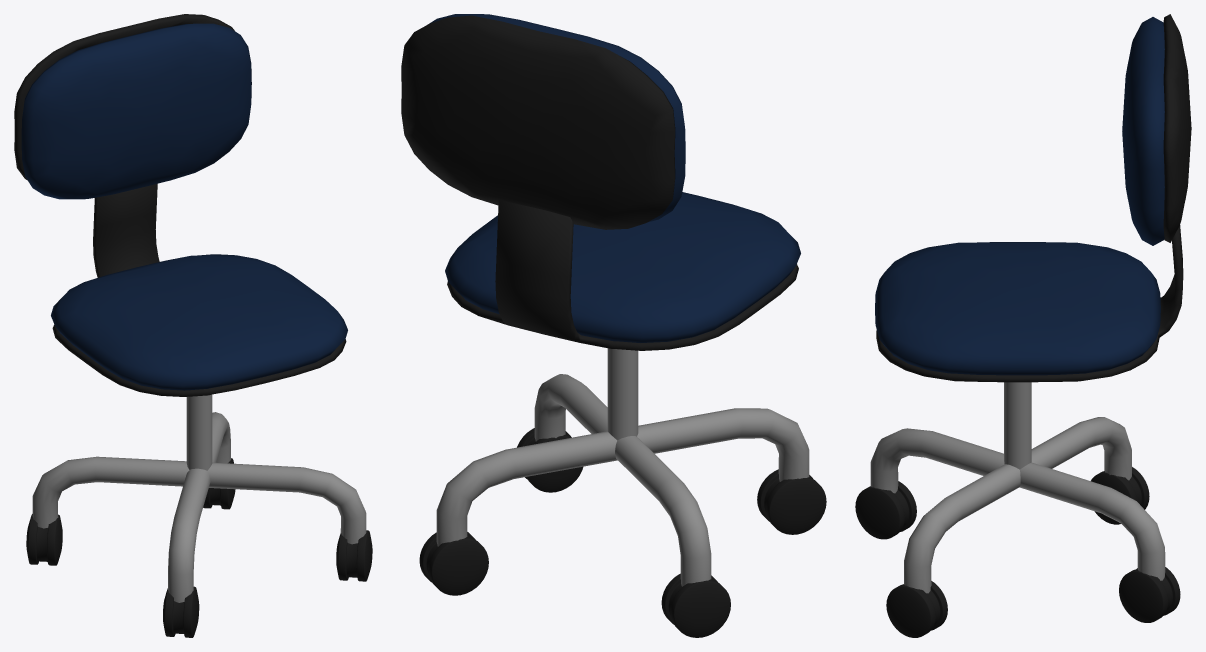
The model's file is krzeslo.fbx.
3 views of the same model, side by side, from view 1: azimuth 30°, elevation 25°; view 2: azimuth 150°, elevation 25°; view 3: azimuth 270°, elevation 25° (orthographic). The views are drawn at different scales.
Parts seen in each view (by area): view 1: Plane; view 2: Plane; view 3: Plane.
Boxes of the visible parts, x1,y1,x2,y2 form: Plane: [14, 14, 372, 637]; Plane: [401, 14, 826, 637]; Plane: [855, 14, 1191, 637].
Bounding box in the file's own units: 71.49 × 129 × 74.07.
